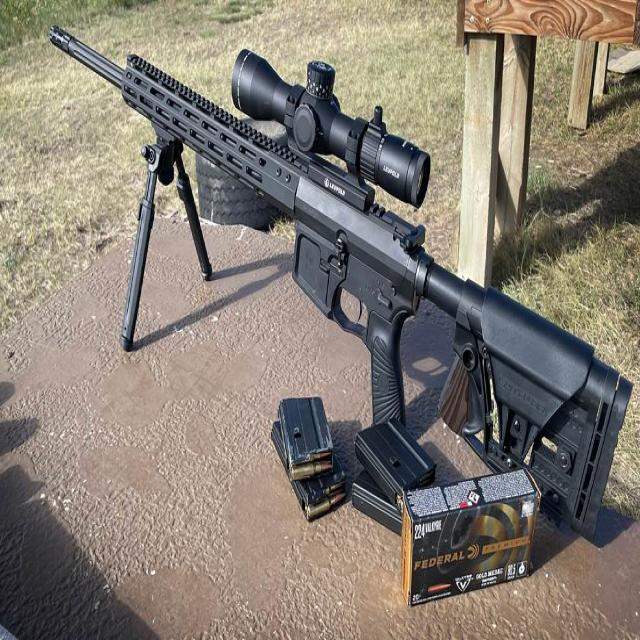Rifle: (50, 29, 633, 541)
